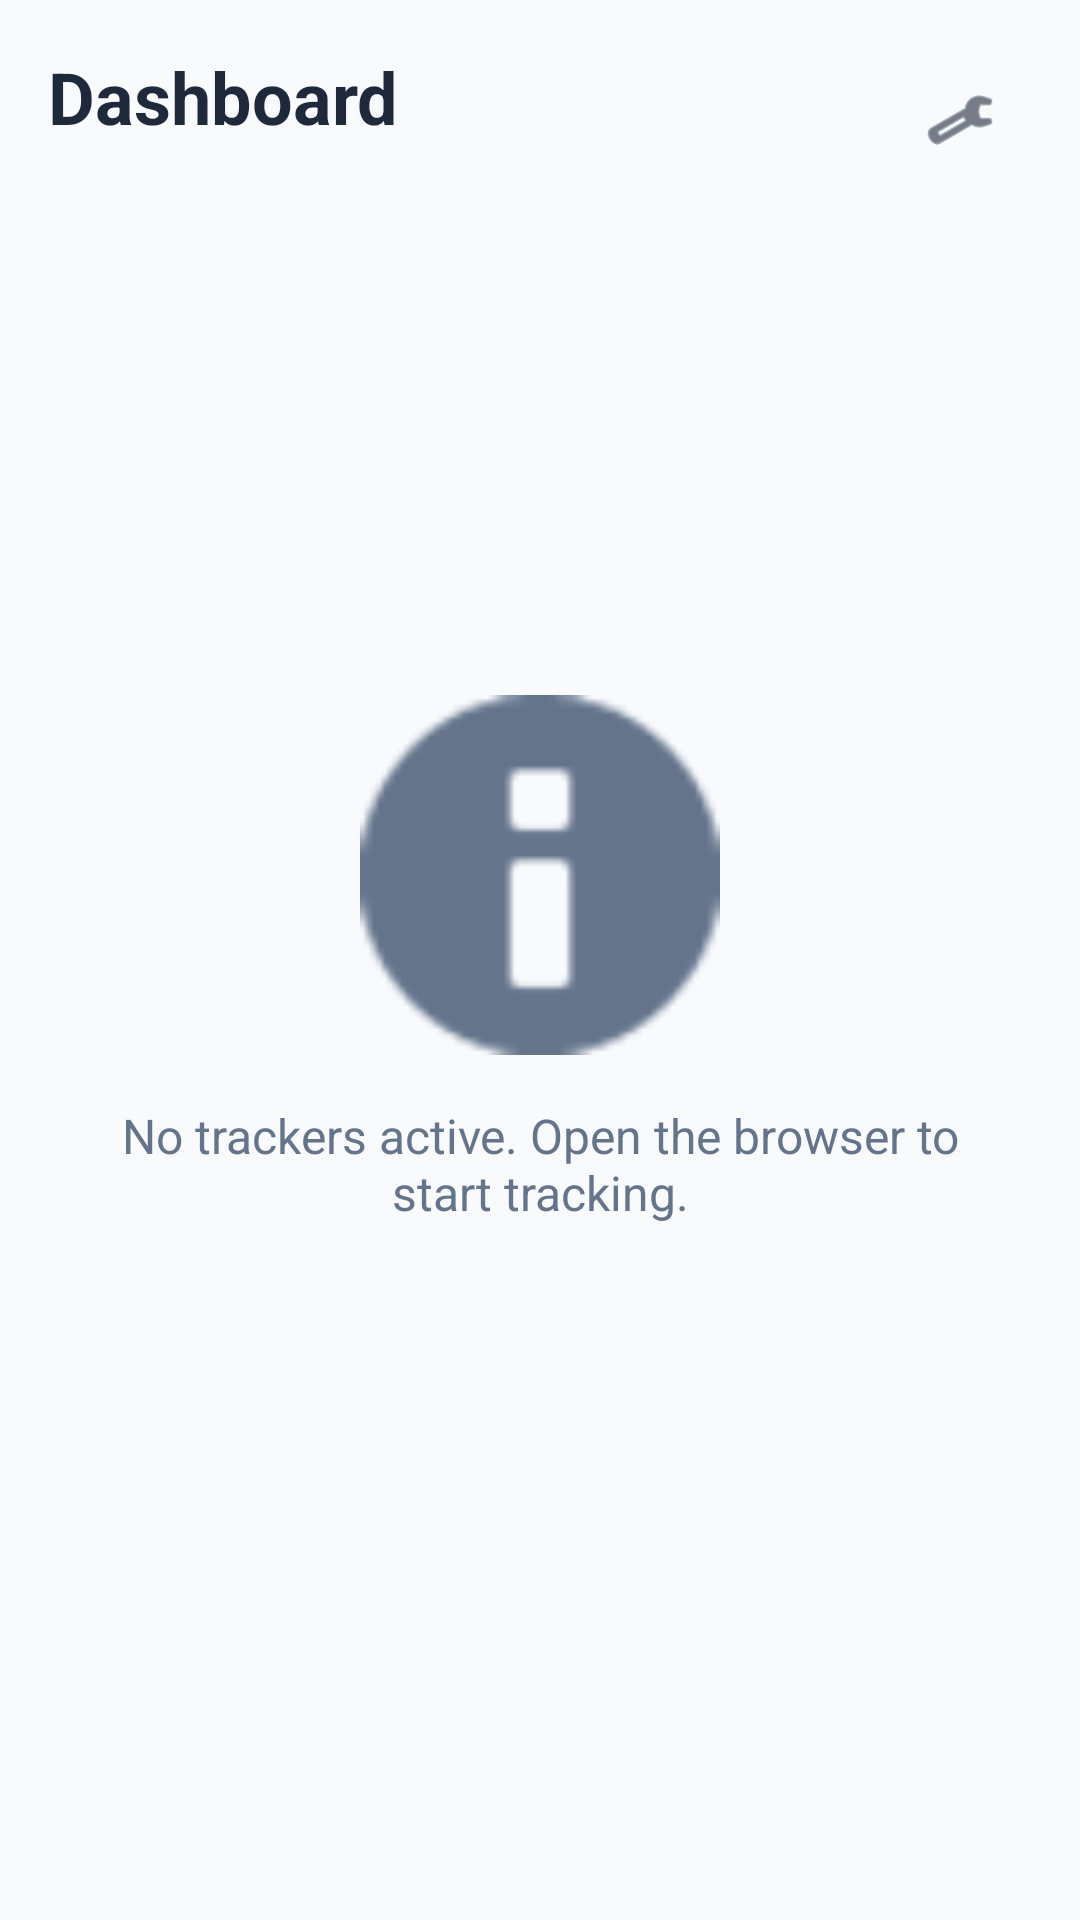

Icon bounding boxes for this 1080px×1920px phone screenshot, format rect(x1, y1, x2, y2):
info: rect(360, 695, 720, 1055)
preferences: rect(927, 95, 992, 145)
